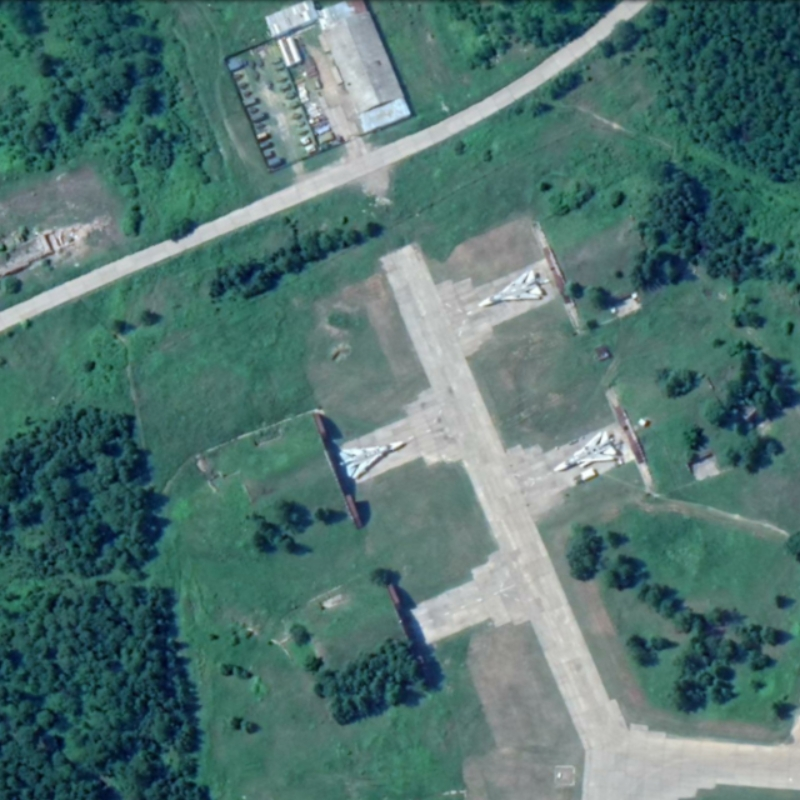A20: (553, 430, 619, 474), (478, 268, 545, 309), (338, 439, 405, 480)
